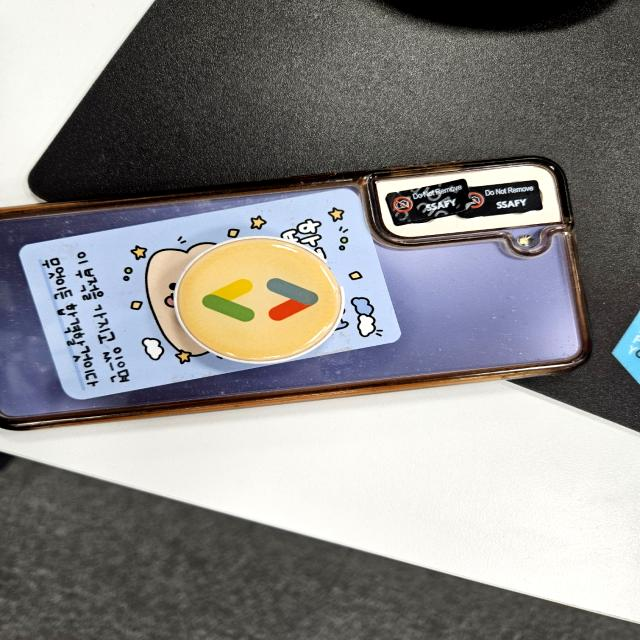phone: (7, 162, 594, 429)
removed_sticker: (382, 180, 468, 225)
sticker: (470, 180, 540, 221)
